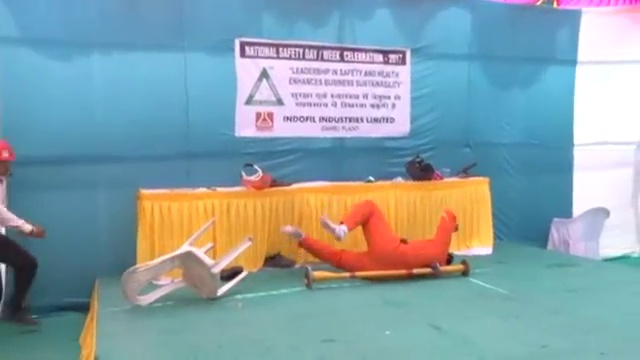helmet: (1, 139, 19, 163)
helmet_on: (1, 140, 19, 181)
person: (279, 202, 461, 282), (1, 139, 44, 325)
